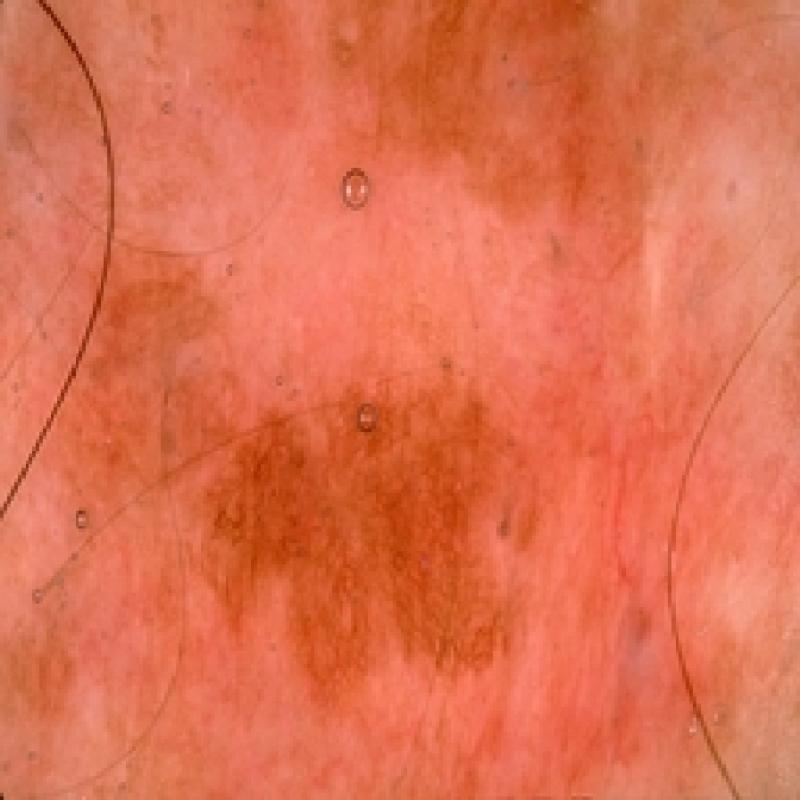malignant: (70, 172, 624, 717)
